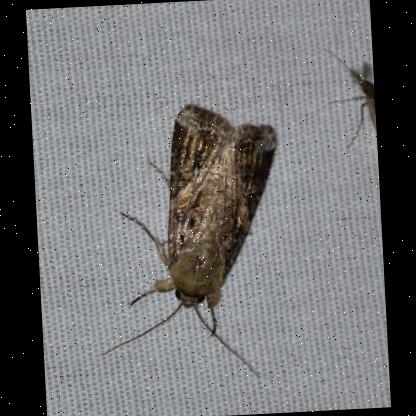Fall Armyworm Moth: (82, 95, 292, 391)
